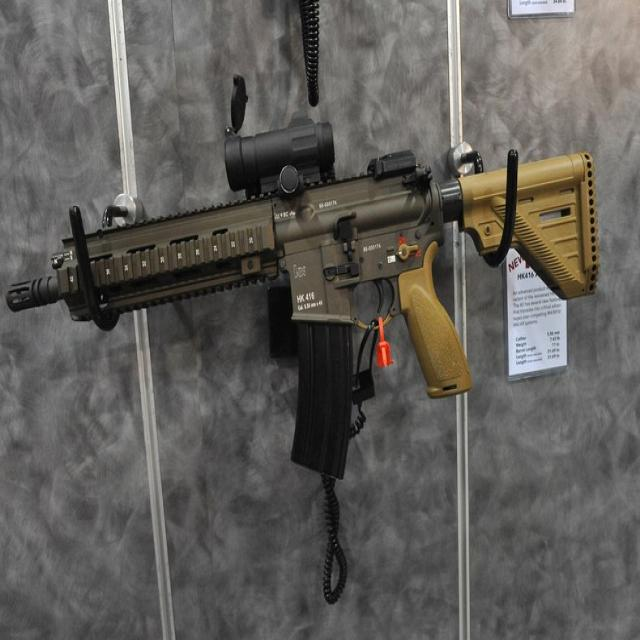firearm: (6, 114, 600, 476)
